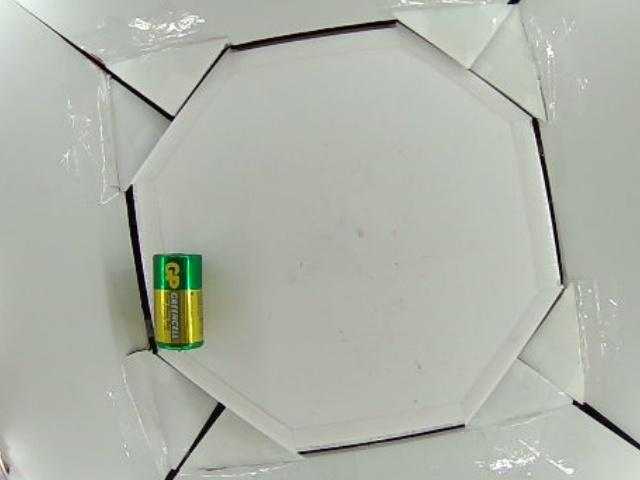Battery: (154, 254, 202, 352)
